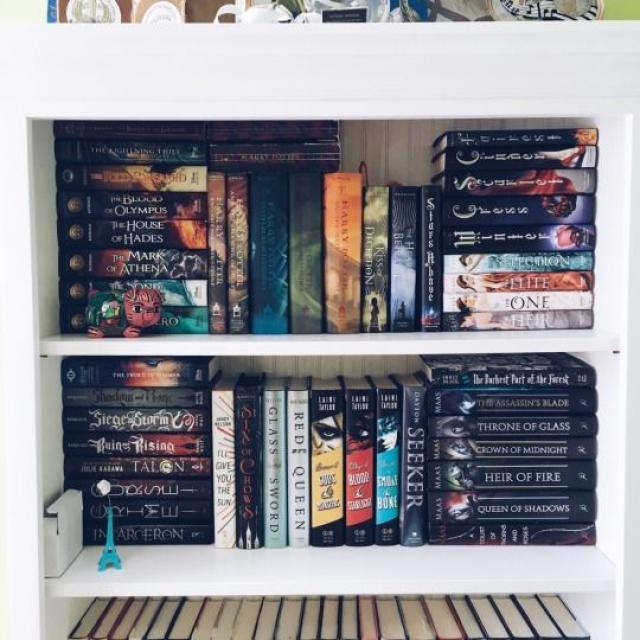book: (251, 174, 289, 333), (290, 174, 325, 332), (326, 174, 361, 332), (429, 491, 596, 522), (312, 390, 344, 545), (57, 219, 206, 251), (429, 389, 597, 415), (235, 389, 262, 549), (443, 197, 595, 225), (346, 389, 373, 546), (428, 464, 597, 489), (59, 252, 206, 280), (57, 192, 206, 219), (54, 140, 206, 166), (60, 280, 206, 307), (428, 522, 597, 545), (429, 438, 597, 461), (61, 307, 208, 333), (391, 185, 417, 332), (61, 361, 209, 386), (404, 386, 427, 544), (443, 227, 594, 251), (56, 167, 206, 191), (428, 415, 599, 436), (62, 433, 210, 457), (447, 170, 594, 194), (364, 187, 388, 332), (208, 144, 339, 170), (227, 173, 248, 332), (265, 391, 286, 549), (288, 391, 309, 548), (377, 389, 398, 545), (214, 392, 234, 548), (62, 409, 210, 430), (446, 147, 596, 167), (64, 458, 212, 478), (420, 184, 440, 331), (433, 369, 595, 387), (208, 172, 226, 333), (84, 501, 213, 523), (54, 120, 205, 138), (62, 388, 210, 406), (82, 480, 213, 500), (84, 524, 213, 544), (443, 292, 592, 309), (444, 273, 592, 290), (444, 312, 592, 328), (445, 255, 592, 271), (207, 122, 338, 139), (448, 130, 598, 143)
